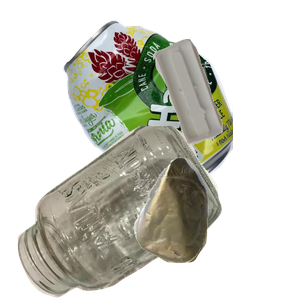glass: (15, 126, 229, 300)
metal: (60, 18, 300, 198)
plastic: (150, 36, 300, 173)
trash: (131, 155, 300, 300)
